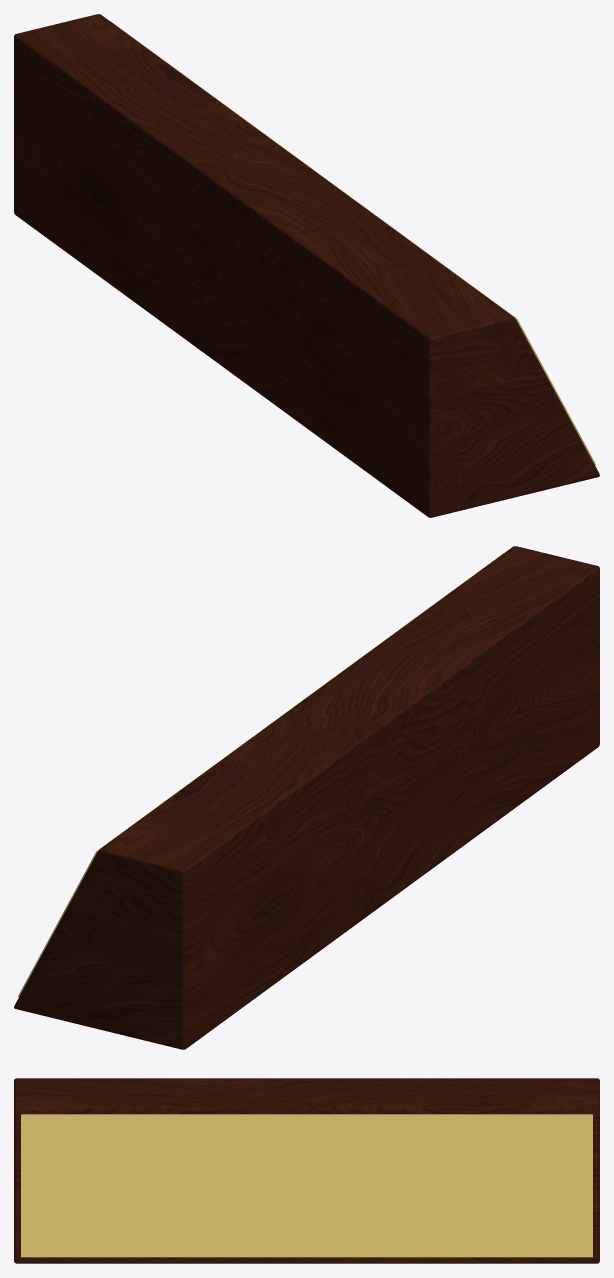
The model's file is name_plate.fbx.
3 views of the same model, one above another, from view 1: azimuth 30°, elevation 25°; view 2: azimuth 150°, elevation 25°; view 3: azimuth 270°, elevation 25° (orthographic). The views are drawn at different scales.
Parts seen in each view (by area): view 1: node_bcfee4ec_d167_4443_b060_2b1d48373c18_mesh0; view 2: node_bcfee4ec_d167_4443_b060_2b1d48373c18_mesh0; view 3: node_bcfee4ec_d167_4443_b060_2b1d48373c18_mesh0.
Boxes of the visible parts, x1,y1,x2,y2 form: node_bcfee4ec_d167_4443_b060_2b1d48373c18_mesh0: [14, 14, 599, 517]; node_bcfee4ec_d167_4443_b060_2b1d48373c18_mesh0: [14, 546, 599, 1049]; node_bcfee4ec_d167_4443_b060_2b1d48373c18_mesh0: [14, 1078, 599, 1263].
Bounding box in the file's own units: 596 × 600 × 2500.
1 material, 1 textured.
